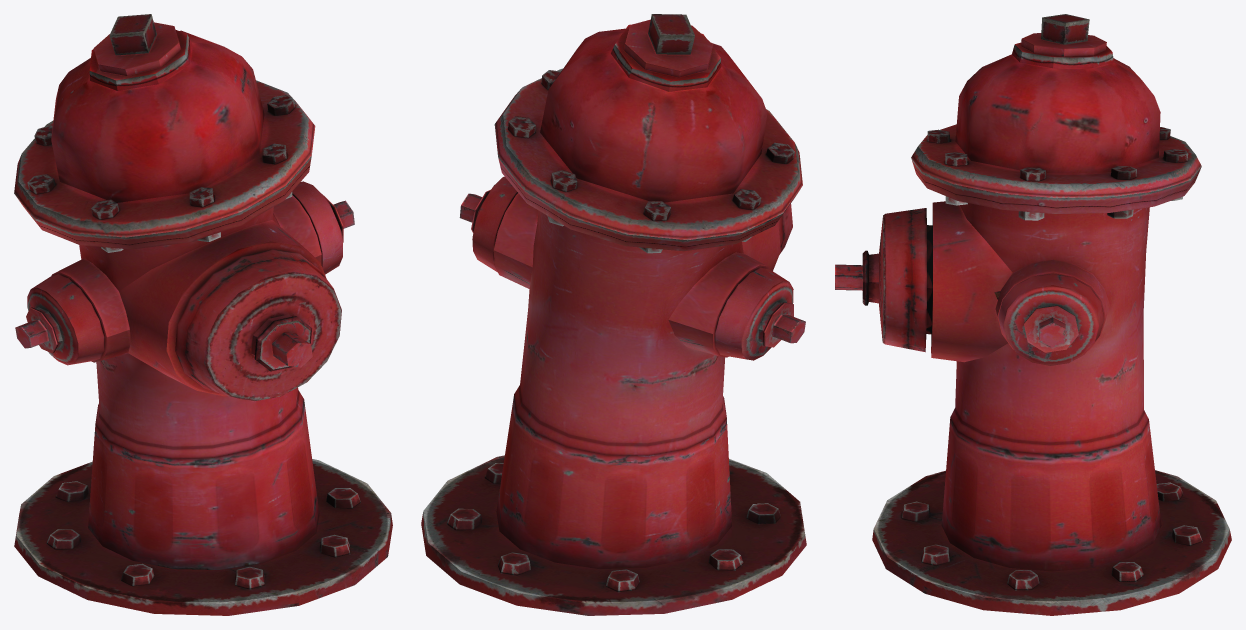
File: fire_hydrant_01.FBX
3 views of the same model, side by side, from view 1: azimuth 30°, elevation 25°; view 2: azimuth 150°, elevation 25°; view 3: azimuth 270°, elevation 25° (orthographic). The views are drawn at different scales.
Parts seen in each view (by area): view 1: LW-Hydrant001; view 2: LW-Hydrant001; view 3: LW-Hydrant001.
Boxes of the visible parts, x1,y1,x2,y2 form: LW-Hydrant001: [14, 14, 392, 615]; LW-Hydrant001: [421, 14, 806, 615]; LW-Hydrant001: [835, 14, 1231, 615].
Bounding box in the file's own units: 76.5 × 111 × 80.28.
